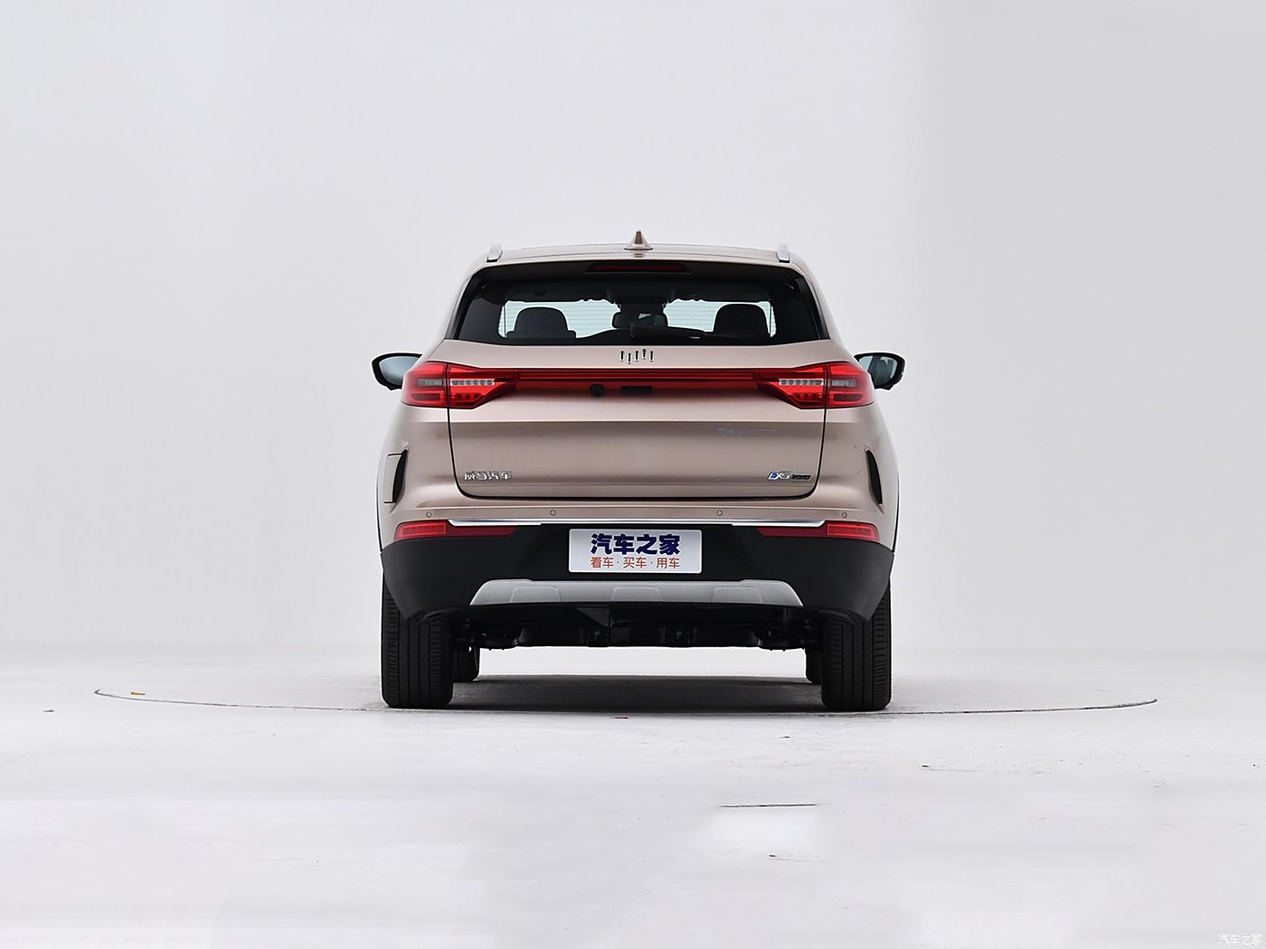WELTMEISTER: (620, 349, 653, 362)
